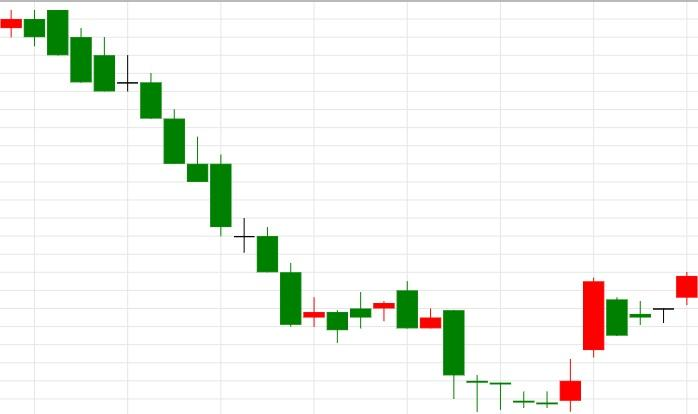bullish_engulfing_rise: (396, 281, 582, 413)
